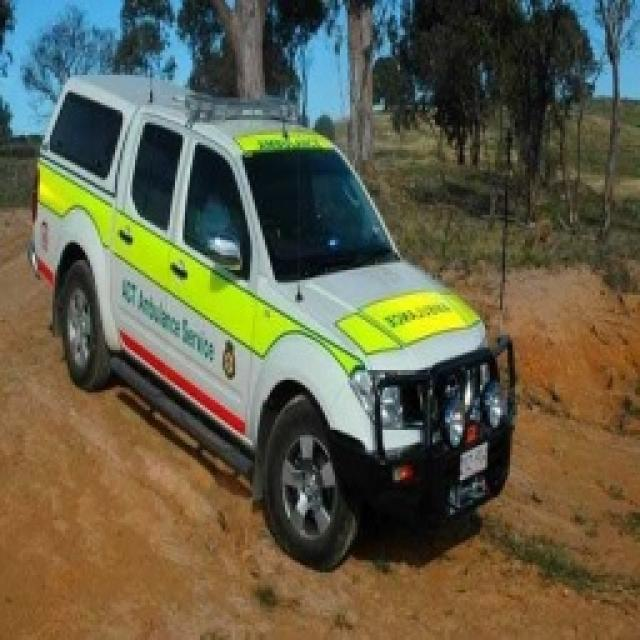emergency-vehicle: (18, 56, 516, 602)
